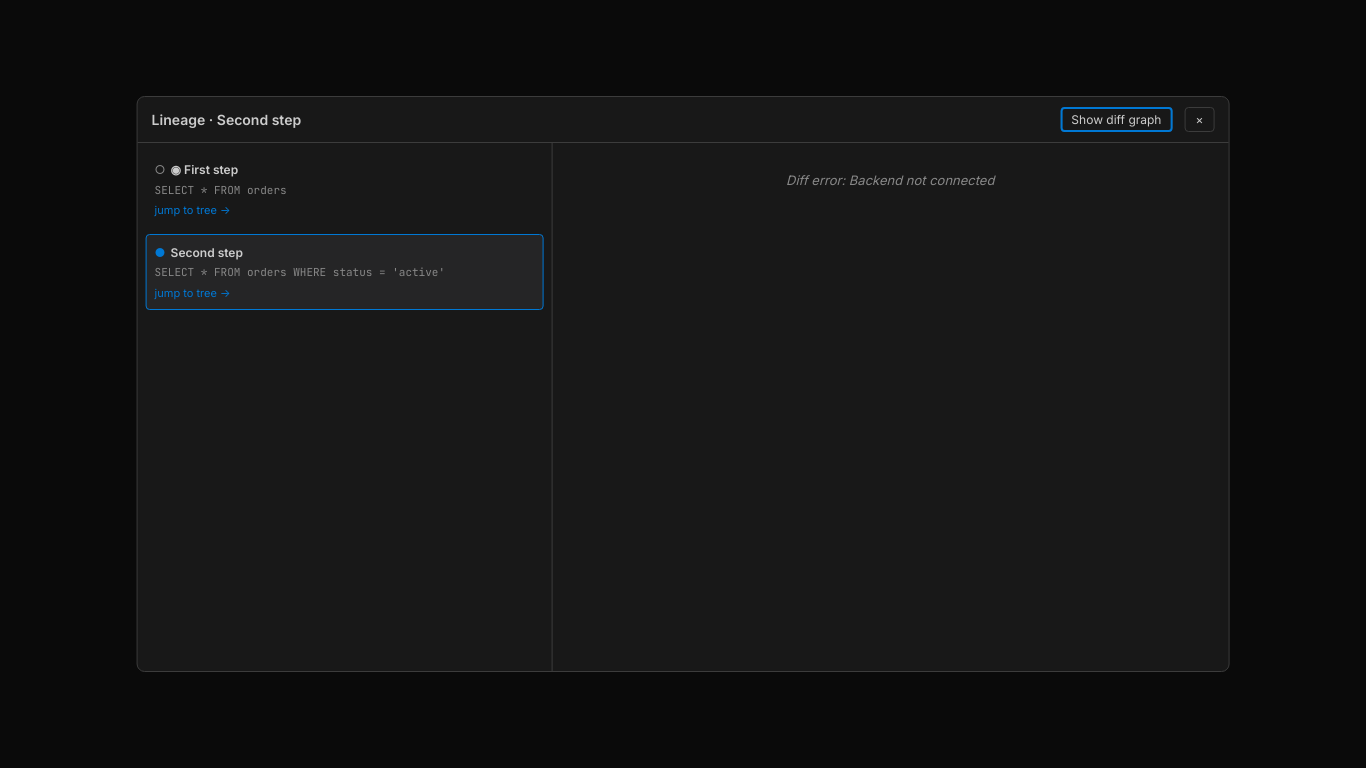
LineagePanel › diff graph toggle: collapsed by default, opens the Diff graph region with empty edges, closes again
Click the button "Show diff graph". click: (1116, 120)
box: [1060,107,1172,132]
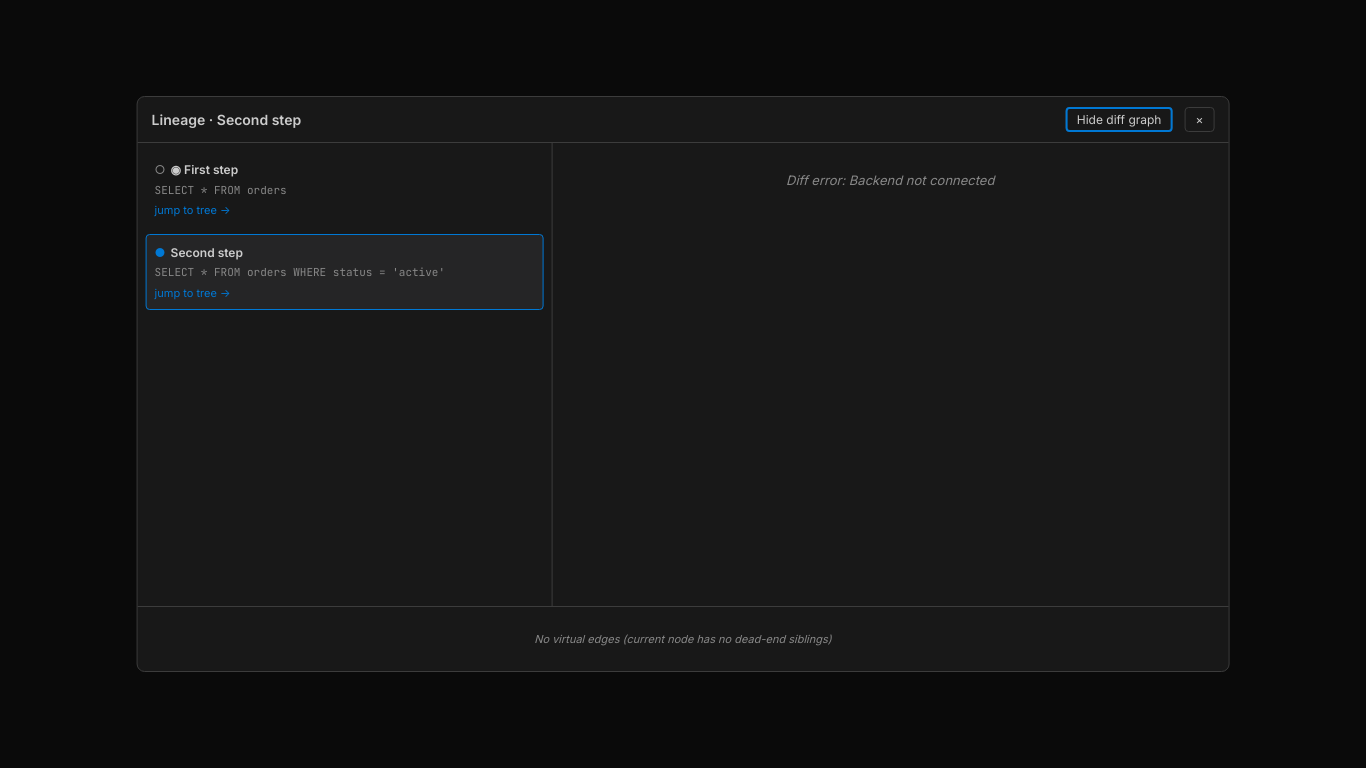
Check: the button "Hide diff graph" is expanded
Check: the element named "Diff graph" reads "No virtual edges (current node has no dead-end siblings)", box [534,632,832,646]
Click the button "Hide diff graph". click: (1119, 120)
box: [1066,107,1172,132]
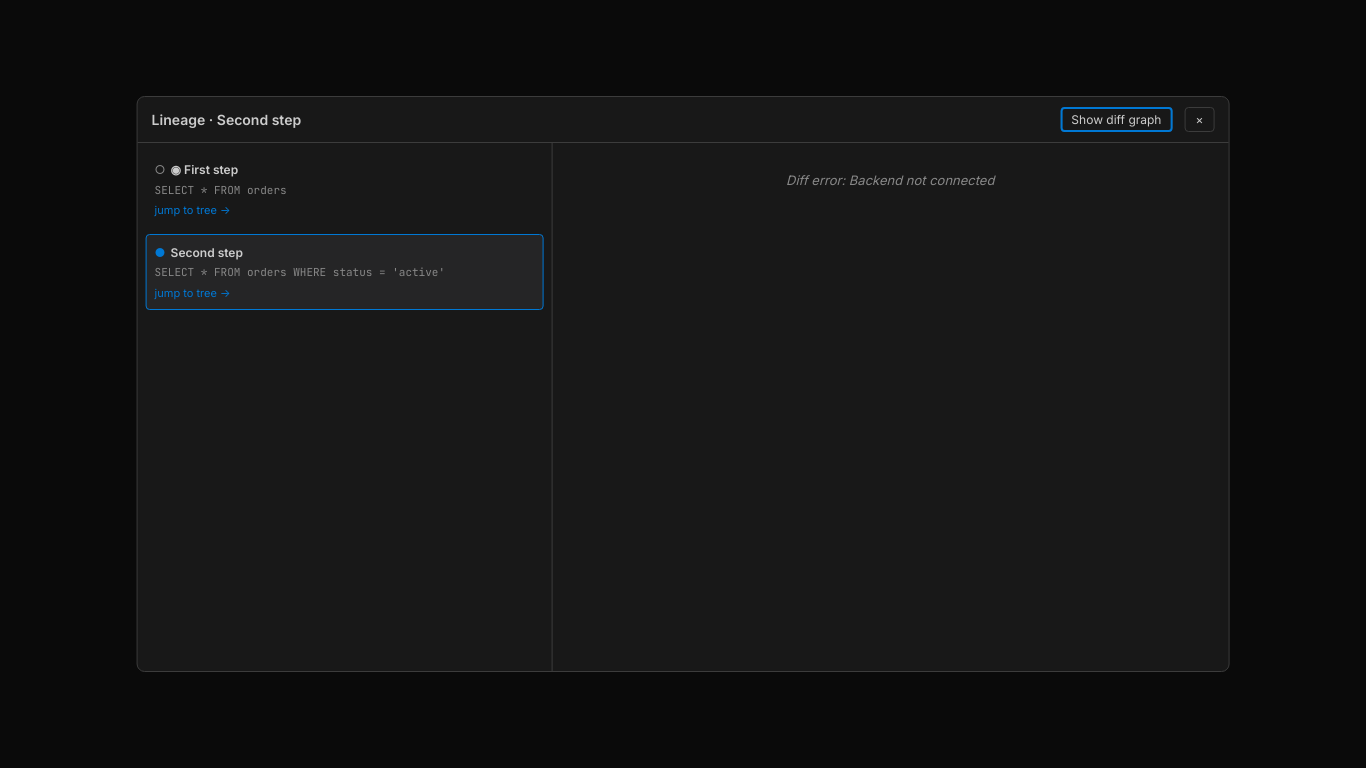
Check: the button "Show diff graph" is collapsed, box [1060,107,1172,132]
